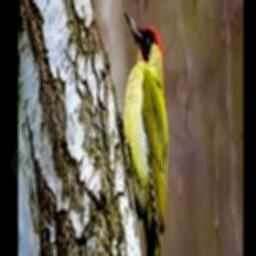Woodpecker: (115, 10, 169, 256)
